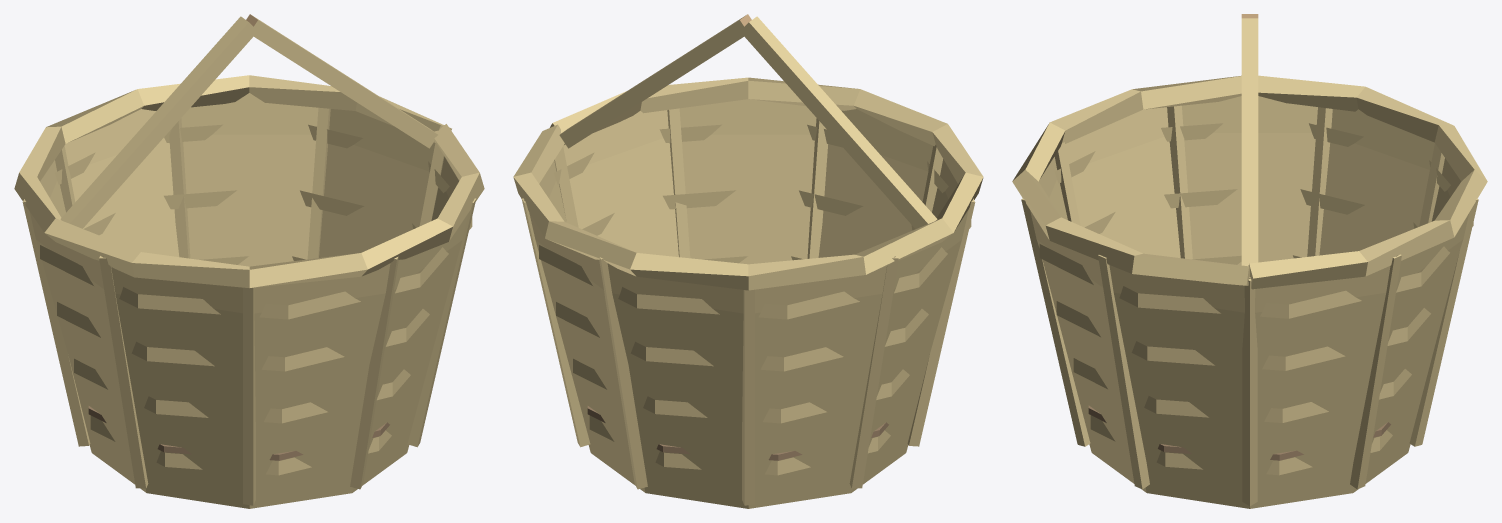
Rendered from basket.glb.
3 renders of one model, left to right at view 1: azimuth 30°, elevation 25°; view 2: azimuth 150°, elevation 25°; view 3: azimuth 270°, elevation 25°, orthographic.
Visible parts, largest first — view 1: basket; view 2: basket; view 3: basket.
Part boxes in pixels (x1=…): basket: x1=14, y1=14, x2=484, y2=508; basket: x1=513, y1=14, x2=983, y2=508; basket: x1=1012, y1=14, x2=1487, y2=508.
Size of the model in its own units: 0.4312 by 0.4257 by 0.432.
